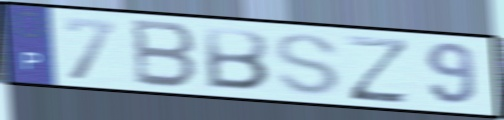7: (61, 15, 120, 82)
9: (422, 40, 480, 110)
B: (131, 16, 200, 92), (202, 24, 272, 93)
S: (271, 31, 343, 98)
Z: (342, 33, 413, 106)
